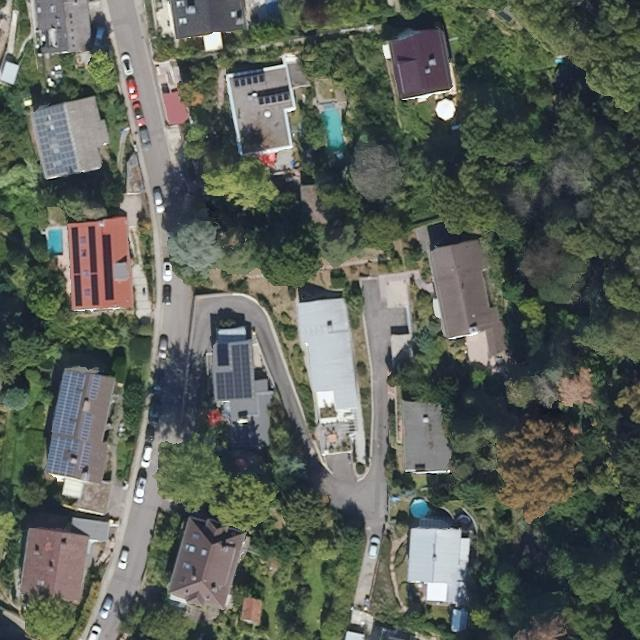PV: (28, 100, 81, 180), (47, 366, 90, 440), (214, 343, 254, 402), (42, 433, 82, 479), (100, 232, 116, 302), (85, 224, 101, 274), (70, 226, 83, 275), (256, 90, 292, 107), (86, 372, 104, 405), (78, 410, 96, 443), (231, 73, 267, 89), (76, 441, 94, 473), (72, 274, 85, 310), (89, 273, 102, 307)
